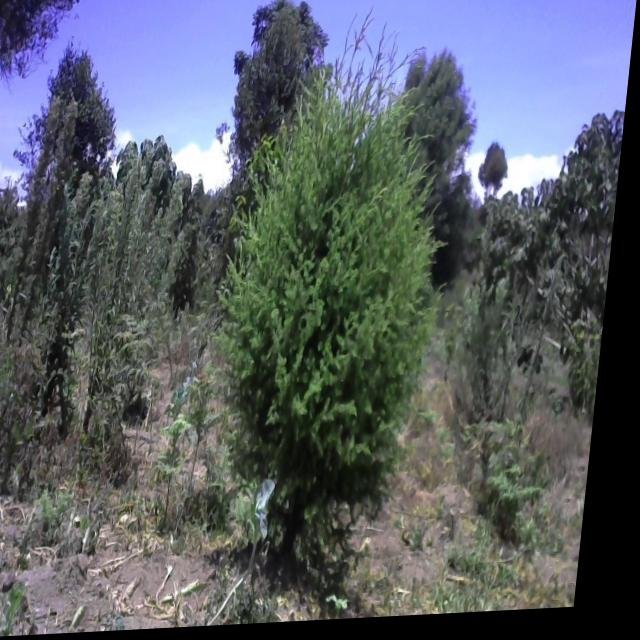Salix alba: (26, 42, 125, 177)
cedrus: (223, 78, 465, 498)
other: (475, 142, 626, 412), (396, 47, 477, 248), (226, 17, 317, 172)
